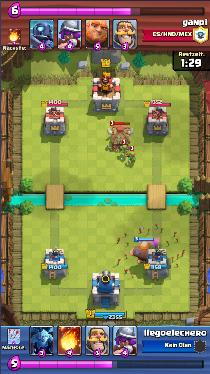ally_giant: (130, 241, 150, 263)
enemy_arrow: (115, 225, 186, 279)
enemy_goblin_hut: (107, 125, 133, 149)
enemy_spear_goblin: (127, 151, 137, 165), (120, 146, 128, 156)
